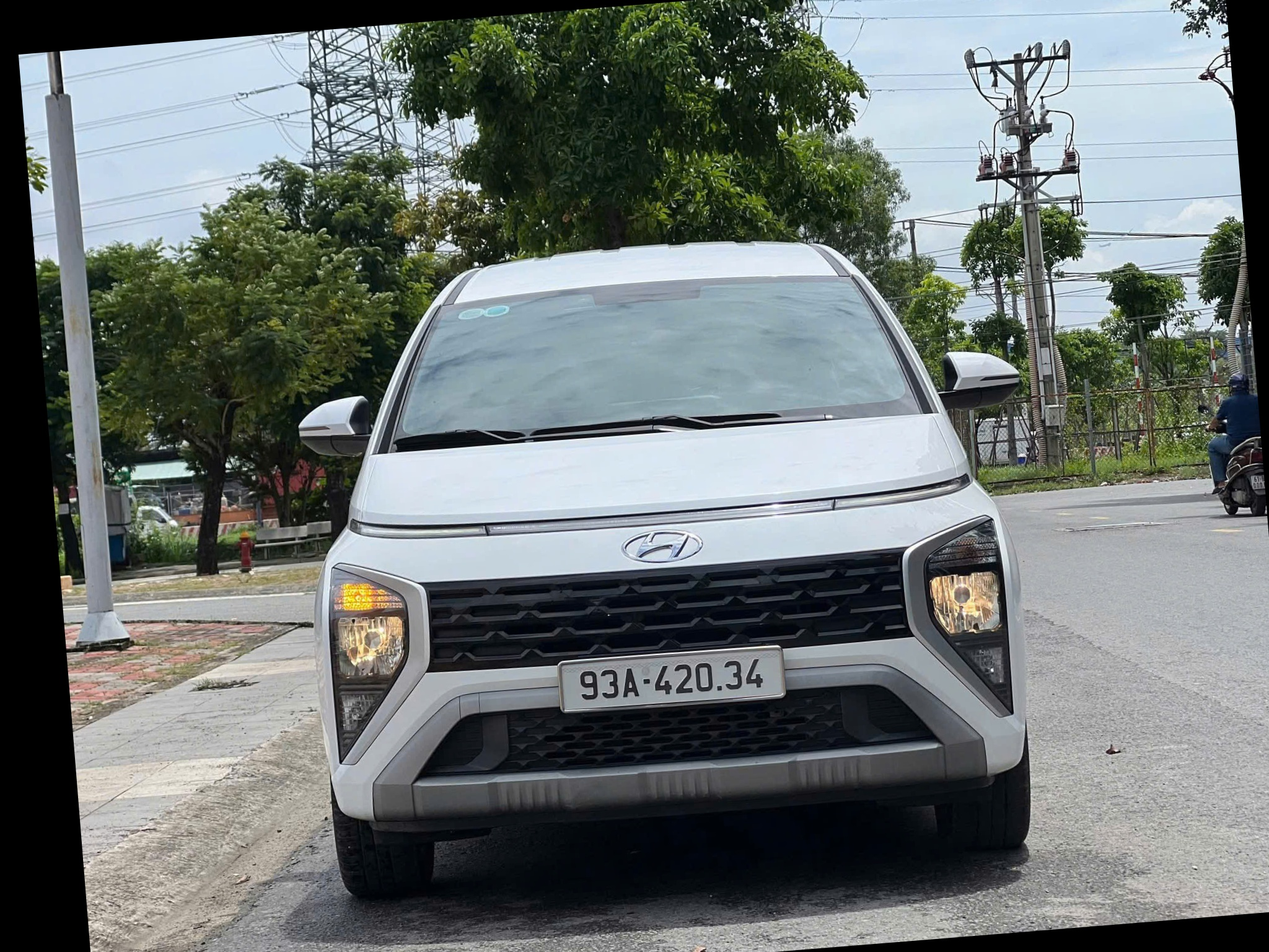Bien-so: (486, 658, 730, 731)
